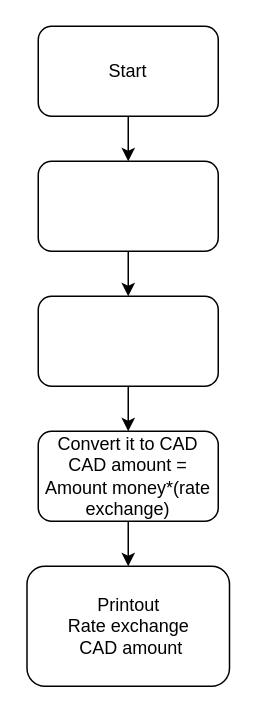
Some shapes in this 255 by 713 pixel diagram are drawn without their labels. Each missing label, with the centre of its shape:
Input amount of money: (x=127, y=205)
Input another country currency: (x=127, y=340)
